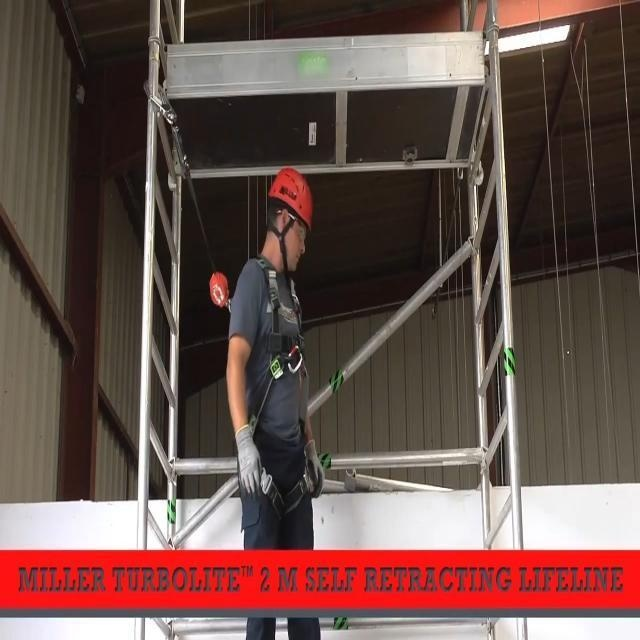Arnes_seguridad: (247, 251, 317, 526)
